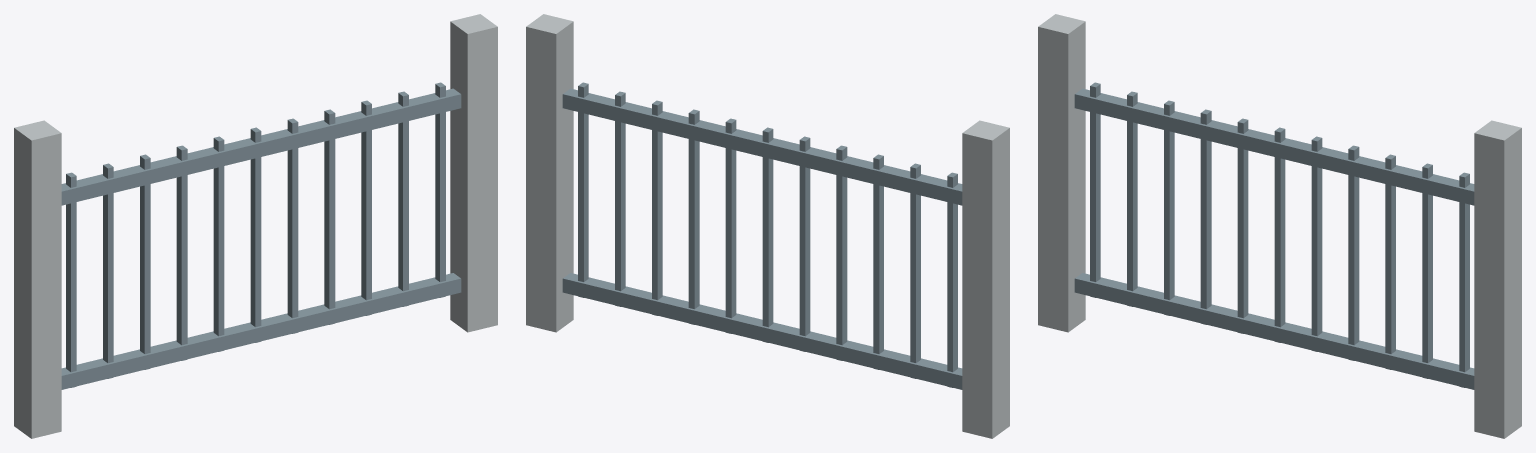
Rendered from gate.glb.
3 views of the same model, side by side, from view 1: azimuth 30°, elevation 25°; view 2: azimuth 150°, elevation 25°; view 3: azimuth 330°, elevation 25° (orthographic).
Visible parts, largest first — view 1: gate_000, gate_001, gate_003, gate_002, gate_011, gate_010, gate_007, gate_009, gate_008, gate_004, gate_005, gate_006 (+3 smaller); view 2: gate_000, gate_001, gate_003, gate_002, gate_011, gate_010, gate_007, gate_009, gate_008, gate_004, gate_005, gate_006 (+3 smaller); view 3: gate_001, gate_000, gate_003, gate_002, gate_007, gate_008, gate_009, gate_011, gate_010, gate_014, gate_004, gate_005 (+3 smaller).
Part boxes in pixels (x1,y1,x2,y2): gate_000: (14, 120, 61, 438); gate_001: (450, 14, 497, 332); gate_003: (61, 88, 461, 205); gate_002: (61, 273, 461, 389); gate_011: (324, 109, 335, 324); gate_010: (287, 118, 298, 333); gate_007: (176, 145, 187, 360); gate_009: (250, 127, 261, 342); gate_008: (213, 136, 224, 351); gate_004: (66, 172, 76, 387); gate_005: (103, 163, 113, 378); gate_006: (140, 154, 150, 369); gate_000: (962, 120, 1009, 438); gate_001: (526, 14, 573, 332); gate_003: (562, 88, 962, 205); gate_002: (562, 273, 962, 389); gate_011: (688, 109, 699, 324); gate_010: (725, 118, 736, 333); gate_007: (836, 145, 847, 360); gate_009: (762, 127, 773, 342); gate_008: (799, 136, 810, 351); gate_004: (947, 172, 957, 387); gate_005: (910, 163, 920, 378); gate_006: (873, 154, 883, 369); gate_001: (1474, 120, 1521, 438); gate_000: (1038, 14, 1085, 332); gate_003: (1074, 88, 1474, 205); gate_002: (1074, 273, 1474, 389); gate_007: (1200, 109, 1211, 324); gate_008: (1237, 118, 1248, 333); gate_009: (1274, 127, 1285, 342); gate_011: (1348, 145, 1359, 360); gate_010: (1311, 136, 1322, 351); gate_014: (1459, 172, 1469, 387); gate_004: (1090, 82, 1100, 297); gate_005: (1127, 91, 1137, 306).
Bounding box in the file's own units: 2.78 × 1.7 × 0.18.
